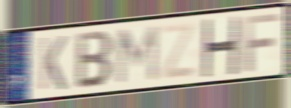B: (74, 30, 115, 91)
F: (243, 11, 282, 74)
H: (200, 16, 241, 78)
K: (38, 34, 69, 93)
M: (115, 24, 160, 86)
Z: (159, 20, 198, 82)
